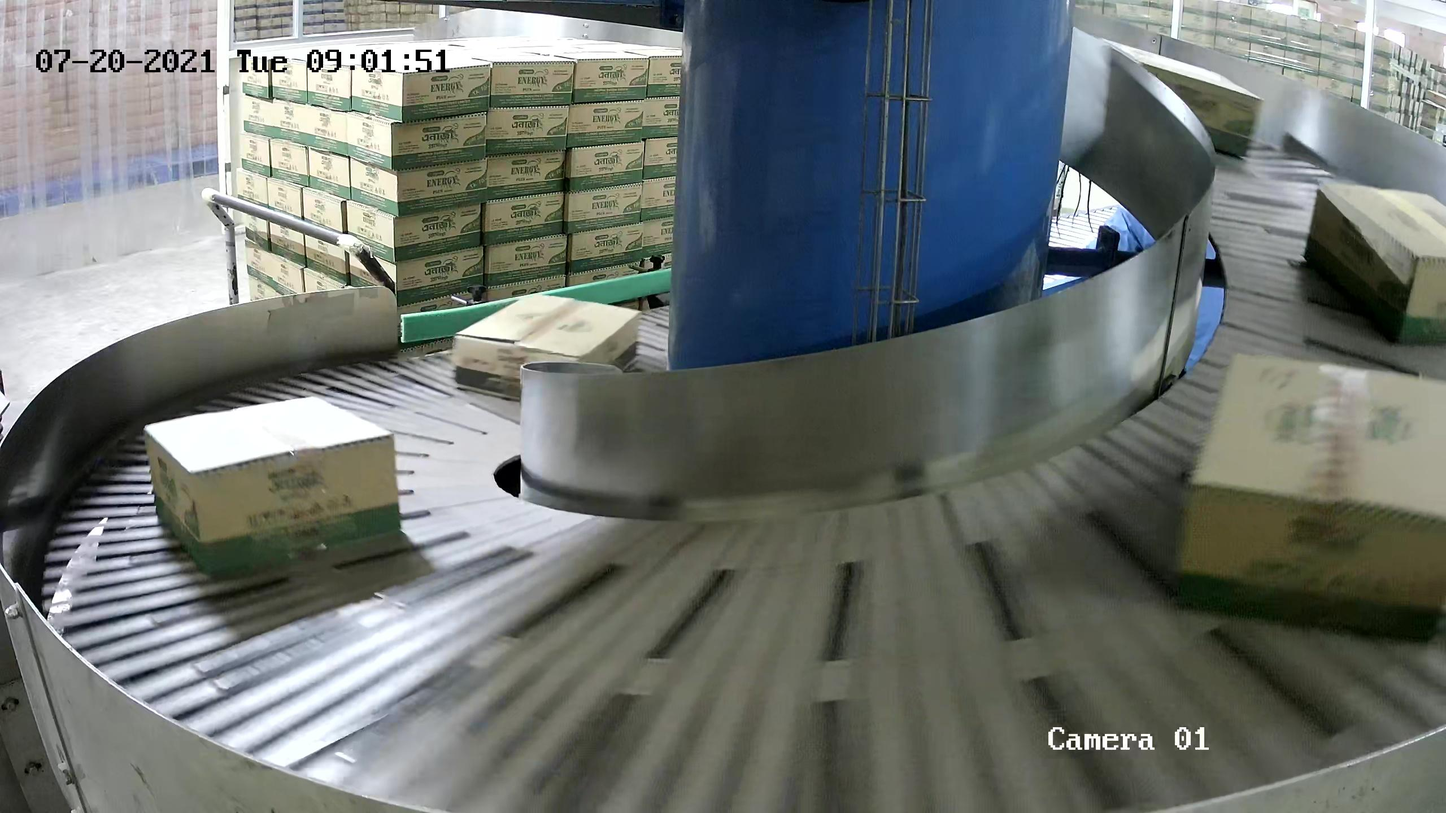Box: (1171, 348, 1446, 645), (141, 393, 405, 580), (1301, 180, 1446, 347), (453, 291, 644, 403), (1094, 33, 1263, 159)
